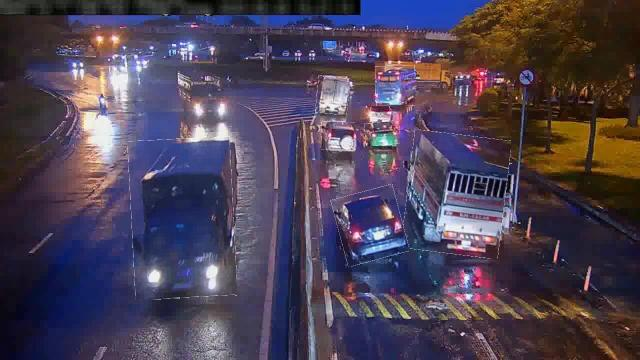Bus: (375, 66, 415, 106)
Car: (334, 188, 406, 264), (322, 121, 354, 150), (364, 122, 400, 146)
Truck: (129, 138, 235, 298), (404, 132, 508, 256), (316, 76, 349, 114)
